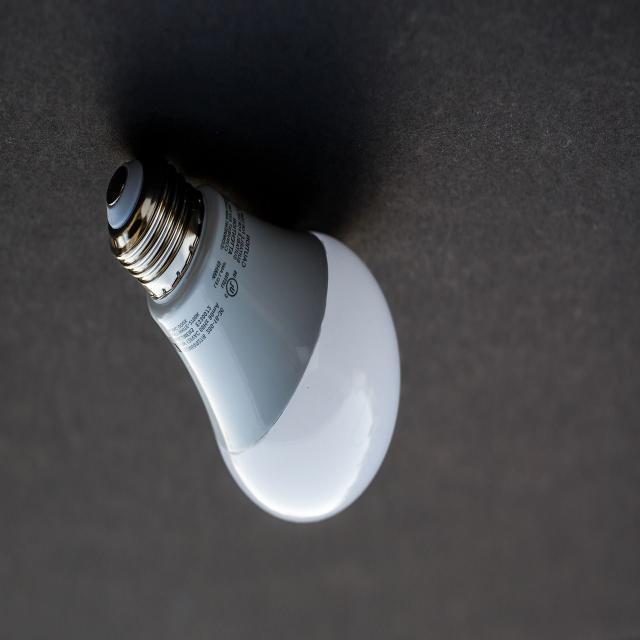light_bulb: (93, 105, 419, 565)
